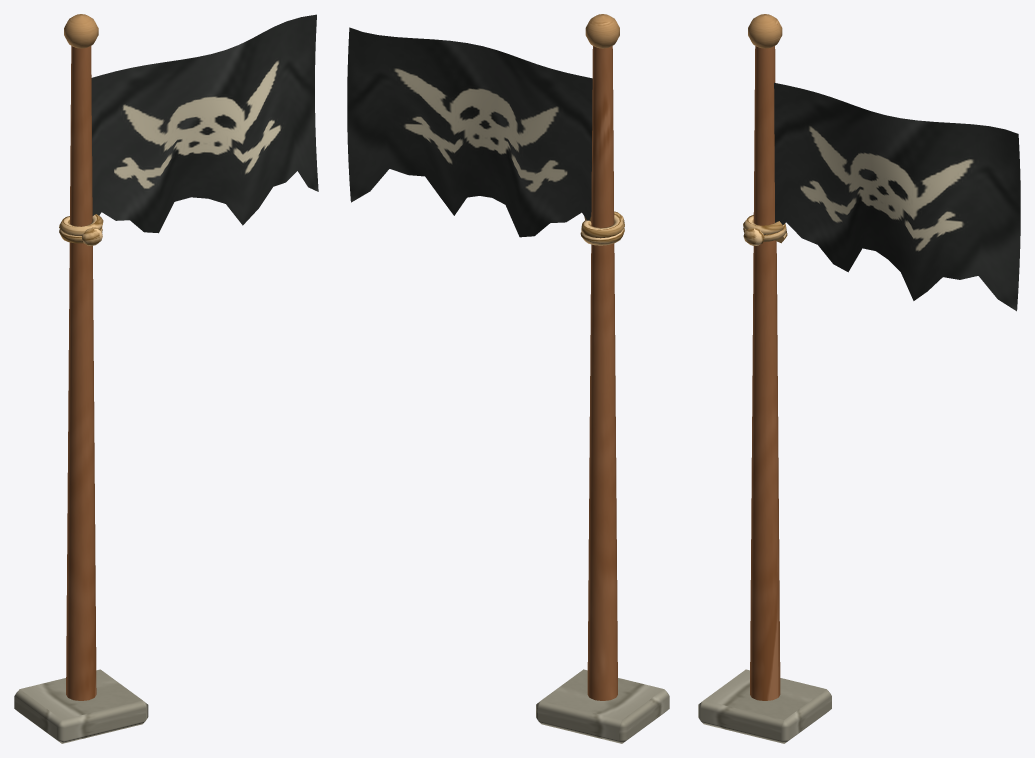
File: SM_Flag_Pirate.glb
3 views of the same model, side by side, from view 1: azimuth 30°, elevation 25°; view 2: azimuth 150°, elevation 25°; view 3: azimuth 330°, elevation 25° (orthographic).
Parts seen in each view (by area): view 1: SM_Flag_Pirate; view 2: SM_Flag_Pirate; view 3: SM_Flag_Pirate.
Part boxes in pixels (left/top/right/bottom): SM_Flag_Pirate: left=14, top=14, right=318, bottom=743; SM_Flag_Pirate: left=347, top=14, right=669, bottom=743; SM_Flag_Pirate: left=698, top=14, right=1020, bottom=743.
Size of the model in its own units: 1.52 by 3.52 by 0.44.
1 material, 1 textured.
